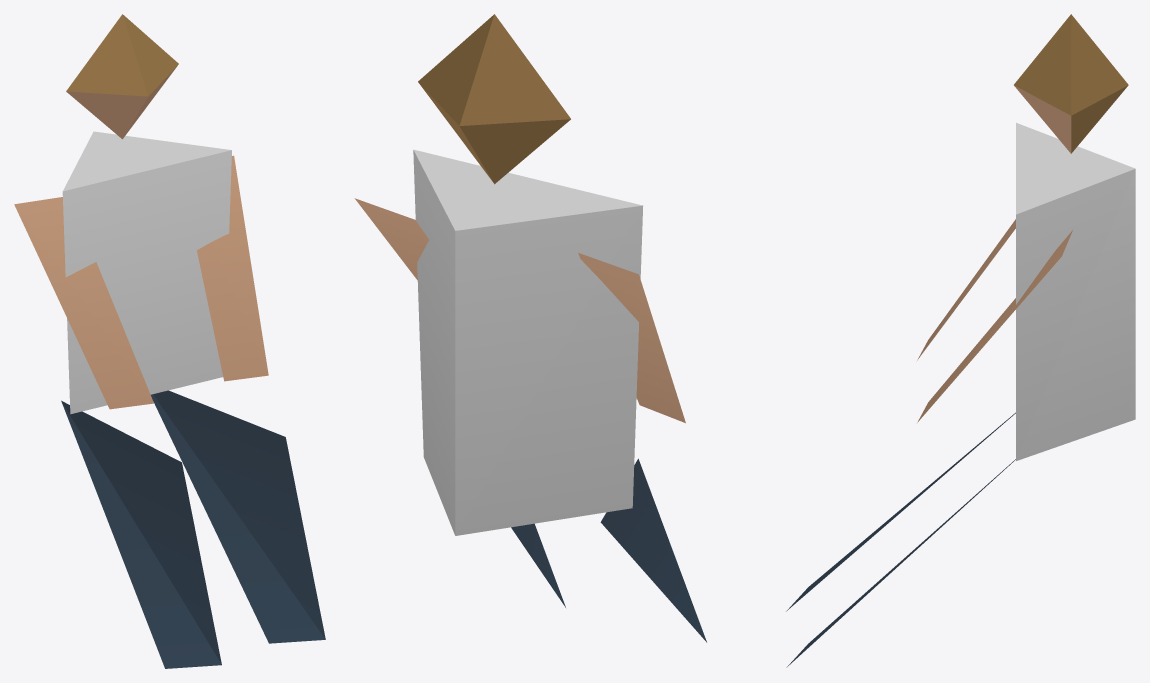
Rendered from fan-05.glb.
3 views of the same model, side by side, from view 1: azimuth 30°, elevation 25°; view 2: azimuth 150°, elevation 25°; view 3: azimuth 270°, elevation 25° (orthographic). The views are drawn at different scales.
Parts seen in each view (by area): view 1: fan-05; view 2: fan-05; view 3: fan-05.
Boxes of the visible parts, left/top/right/bottom form: fan-05: left=14, top=14, right=325, bottom=668; fan-05: left=354, top=14, right=706, bottom=642; fan-05: left=786, top=14, right=1135, bottom=667.
Size of the model in its own units: 0.6 by 1.47 by 0.76.
